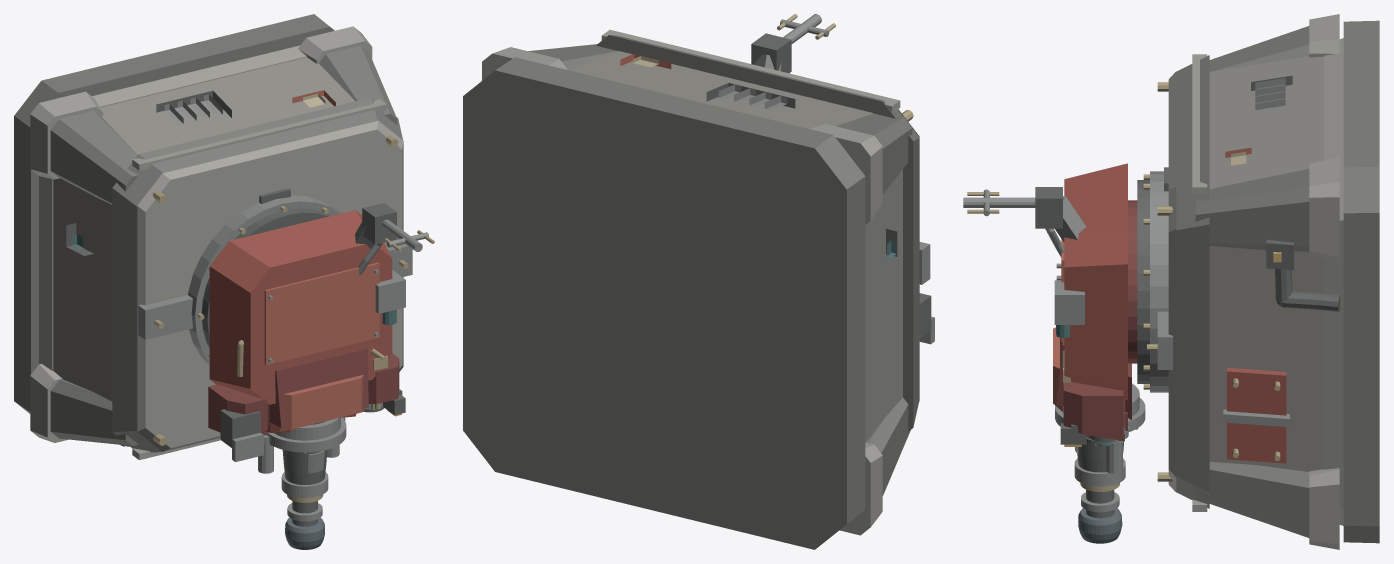
Rendered from martian_heavy_weapon_bunker_source_geometry_v09.glb.
3 views of the same model, side by side, from view 1: azimuth 30°, elevation 25°; view 2: azimuth 150°, elevation 25°; view 3: azimuth 270°, elevation 25° (orthographic). The views are drawn at different scales.
Parts seen in each view (by area): view 1: 05_top_concrete_skin, 03_monolithic_bunker_mass, 16_martian_red_turret_armor, 01_foundation_granular_ferrocrete, 04_upper_blast_cap, 87_roof_red_inspection_armor, 02_lower_blast_raft, 06_corner_armor_buttress_WN, 06_corner_armor_buttress_WS, 13_ring_lower_bearing_seat, 19_roof_to_mantlet_transition, 19_mantlet_upper_brow (+20 smaller); view 2: 01_foundation_granular_ferrocrete, 03_monolithic_bunker_mass, 04_upper_blast_cap, 07_corner_buttress_foot_WN, 06_corner_armor_buttress_WN, 06_corner_armor_buttress_WS, 07_corner_buttress_foot_WS, 54_north_slab_anchor_strip, 31_antenna_base, 06_corner_armor_buttress_EN, 07_corner_buttress_foot_EN; view 3: 03_monolithic_bunker_mass, 01_foundation_granular_ferrocrete, 04_upper_blast_cap, 16_martian_red_turret_armor, 06_corner_armor_buttress_EN, 02_lower_blast_raft, 06_corner_armor_buttress_ES, 55_east_wall_controller_armor, 05_top_concrete_skin, 13_ring_lower_bearing_seat, 07_corner_buttress_foot_EN, 18_turret_front_cheek_E (+20 smaller).
Part boxes in pixels (box(x1,y1,x2,y2)): 05_top_concrete_skin: box(137, 120, 403, 451); 03_monolithic_bunker_mass: box(53, 57, 354, 401); 16_martian_red_turret_armor: box(209, 210, 392, 404); 01_foundation_granular_ferrocrete: box(14, 14, 334, 413); 04_upper_blast_cap: box(112, 97, 402, 452); 87_roof_red_inspection_armor: box(264, 262, 379, 365); 02_lower_blast_raft: box(39, 45, 306, 370); 06_corner_armor_buttress_WN: box(50, 110, 138, 204); 06_corner_armor_buttress_WS: box(50, 379, 138, 445); 13_ring_lower_bearing_seat: box(188, 195, 340, 365); 19_roof_to_mantlet_transition: box(270, 348, 368, 428); 19_mantlet_upper_brow: box(279, 374, 364, 431); 01_foundation_granular_ferrocrete: box(463, 57, 865, 549); 03_monolithic_bunker_mass: box(571, 51, 902, 442); 04_upper_blast_cap: box(596, 35, 919, 431); 07_corner_buttress_foot_WN: box(809, 124, 882, 224); 06_corner_armor_buttress_WN: box(836, 113, 912, 194); 06_corner_armor_buttress_WS: box(866, 397, 910, 495); 07_corner_buttress_foot_WS: box(839, 442, 882, 535); 54_north_slab_anchor_strip: box(601, 29, 900, 113); 31_antenna_base: box(751, 33, 791, 73); 06_corner_armor_buttress_EN: box(528, 44, 617, 70); 07_corner_buttress_foot_EN: box(482, 47, 567, 80); 03_monolithic_bunker_mass: box(1209, 56, 1324, 471); 01_foundation_granular_ferrocrete: box(1343, 20, 1379, 543); 04_upper_blast_cap: box(1176, 55, 1209, 508); 16_martian_red_turret_armor: box(1064, 163, 1127, 400); 06_corner_armor_buttress_EN: box(1195, 169, 1309, 251); 02_lower_blast_raft: box(1324, 38, 1343, 525); 06_corner_armor_buttress_ES: box(1195, 462, 1309, 537); 55_east_wall_controller_armor: box(1227, 367, 1286, 463); 05_top_concrete_skin: box(1168, 71, 1176, 492); 13_ring_lower_bearing_seat: box(1150, 171, 1168, 392); 07_corner_buttress_foot_EN: box(1309, 157, 1339, 262); 18_turret_front_cheek_E: box(1063, 382, 1123, 440).
Bounding box in the file's own units: 3.04 × 3.53 × 3.01.
